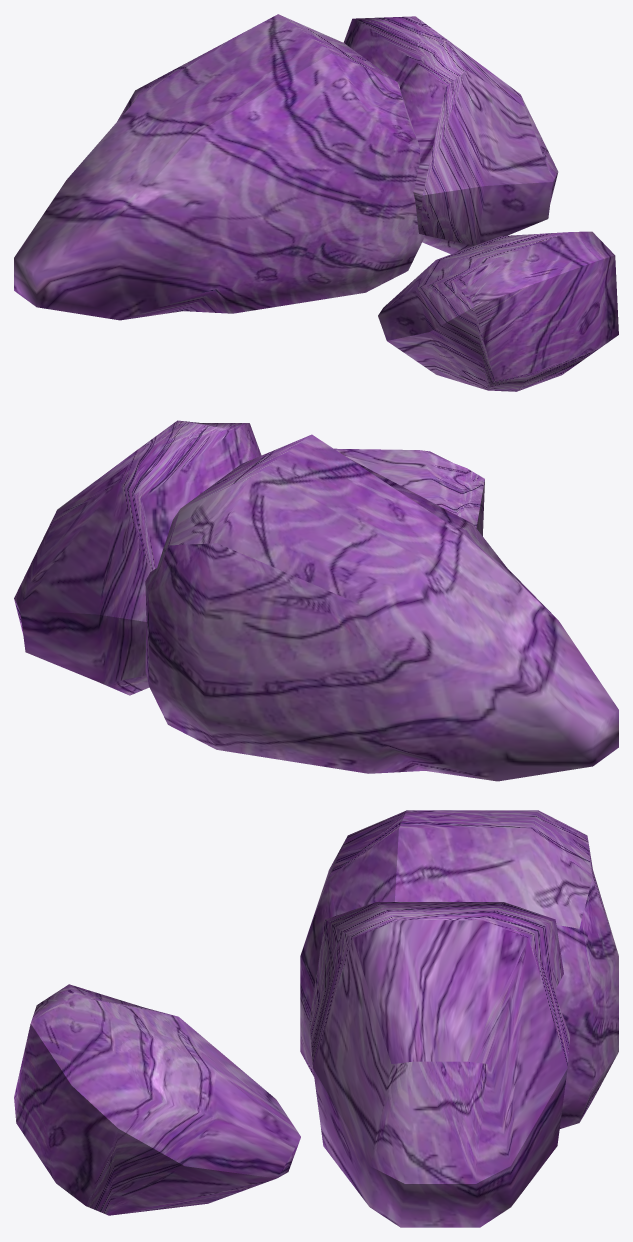
The model's file is pm-rock-04.glb.
3 views of the same model, one above another, from view 1: azimuth 30°, elevation 25°; view 2: azimuth 150°, elevation 25°; view 3: azimuth 270°, elevation 25° (orthographic). The views are drawn at different scales.
Visible parts, largest first — view 1: Rock_04_Art; view 2: Rock_04_Art; view 3: Rock_04_Art.
Part boxes in pixels (x1,y1,x2,y2): Rock_04_Art: [14, 14, 618, 391]; Rock_04_Art: [14, 420, 618, 781]; Rock_04_Art: [14, 810, 618, 1227].
Size of what is drawn, in the model's own units: 3.15 by 1.59 by 2.62.
1 material, 1 textured.
